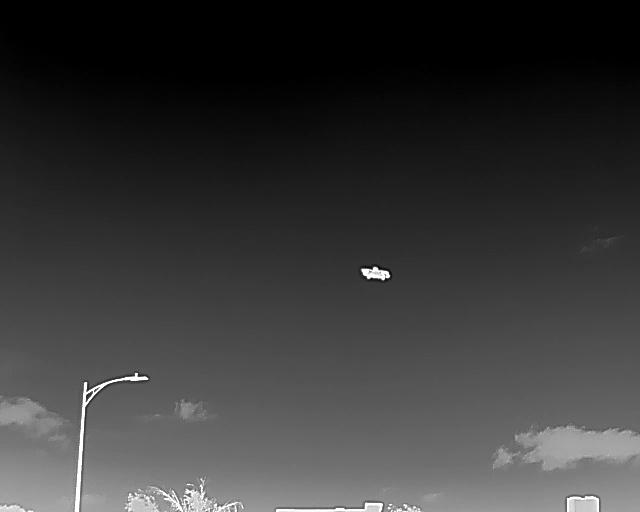fpv-drone: (360, 266, 390, 281)
